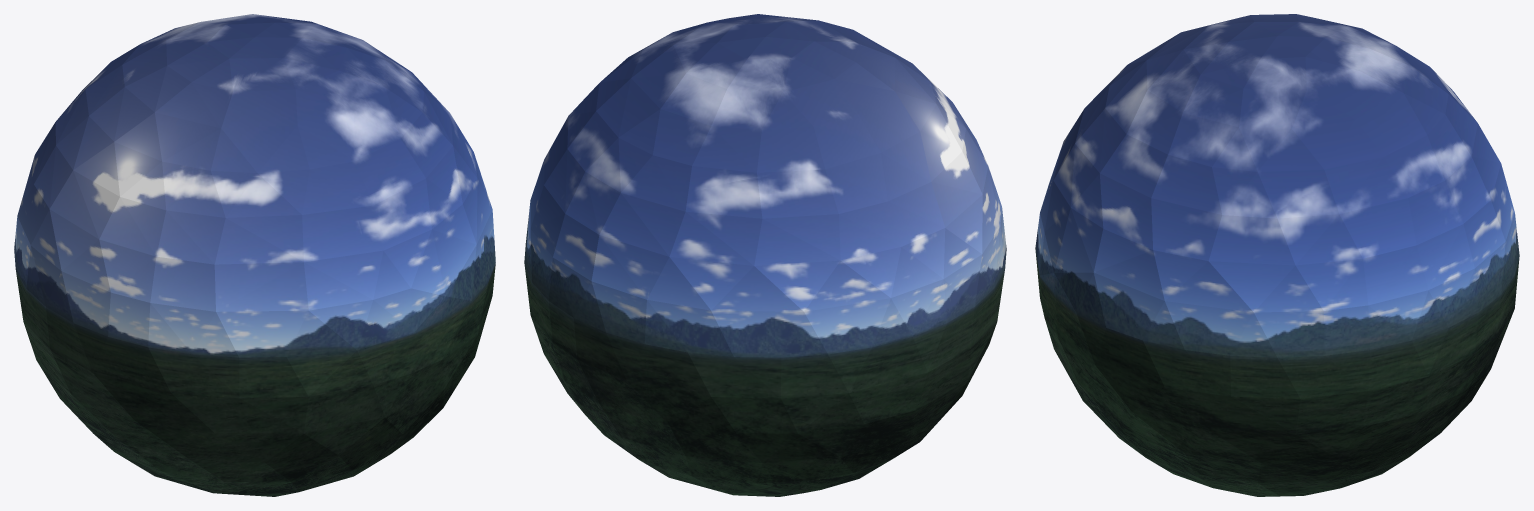
Rendered from Skydome.obj.
The picture shows the model from 3 angles, left to right: view 1: azimuth 30°, elevation 25°; view 2: azimuth 150°, elevation 25°; view 3: azimuth 270°, elevation 25°; orthographic projection.
Parts seen in each view (by area): view 1: 球_球.002; view 2: 球_球.002; view 3: 球_球.002.
Part boxes in pixels (x1,y1,x2,y2): 球_球.002: (14, 14, 495, 496); 球_球.002: (524, 14, 1006, 496); 球_球.002: (1035, 14, 1519, 496).
Size of the model in its own units: 1000 by 1000 by 1000.
1 material, 1 textured.
